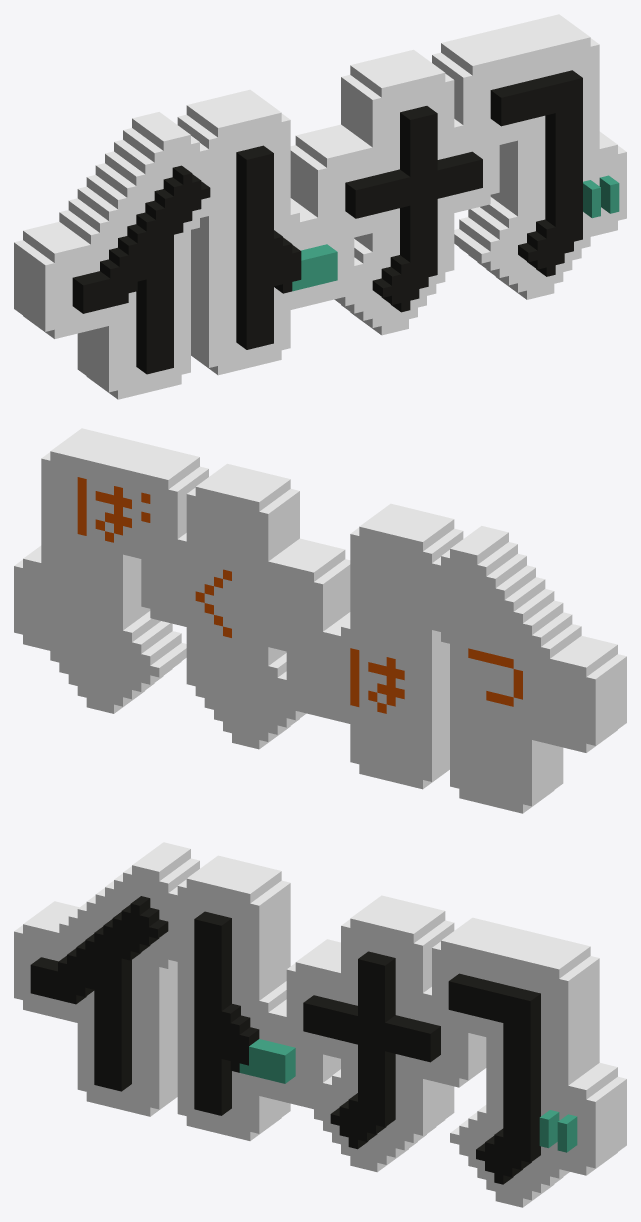
File: itnav-text.glb
3 renders of one model, top to bottom at view 1: azimuth 30°, elevation 25°; view 2: azimuth 150°, elevation 25°; view 3: azimuth 330°, elevation 25°, orthographic.
Bounding box in the file's own units: 6.4 × 2.6 × 0.8.
Materials: 1 (1 with a texture image).
